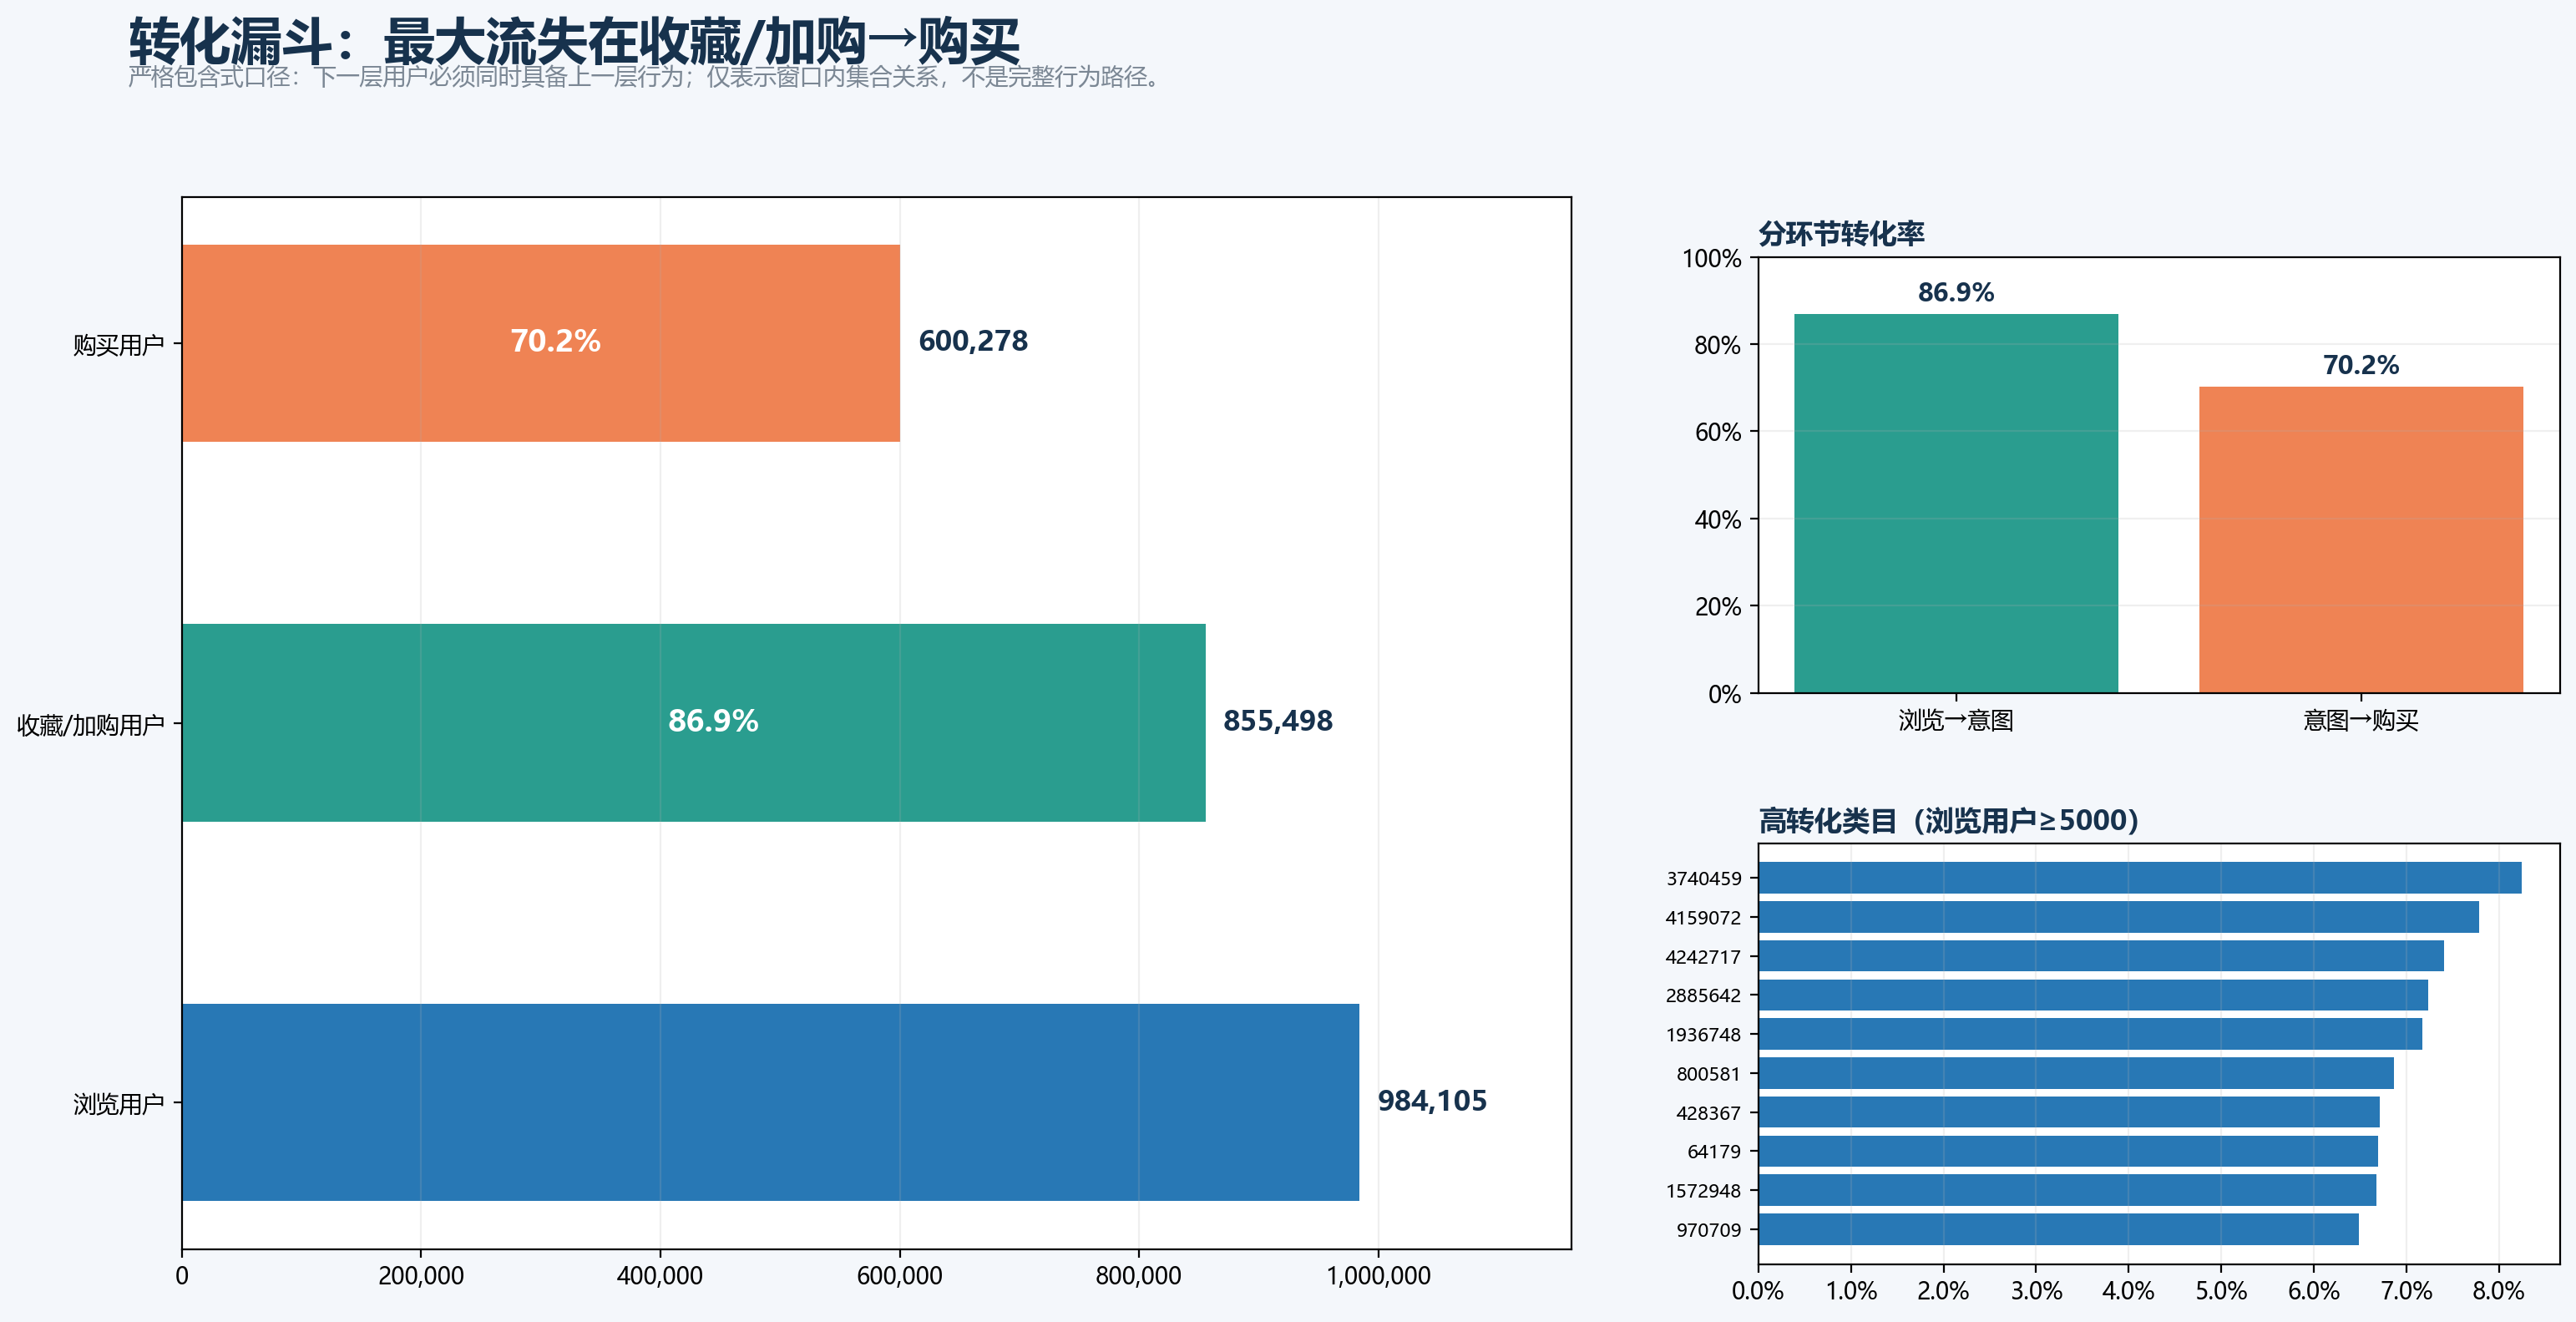

The page's visual inventory and layout, read from the dashboard file:
{"tool":"powerbi","page":{"name":"转化漏斗","canvas":[1280,720],"ordinal":1},"visuals":[{"type":"textbox","box":[30,15,1000,45],"z":1},{"type":"textbox","box":[30,60,1200,30],"z":1},{"type":"barChart","title":"高转化匿名类目ID（浏览用户≥5,000）","fields":{"Category":["TopCategory.category_label"],"Y":["Sum(TopCategory.pv_to_buy)"]},"box":[660,120,560,500],"z":3},{"type":"funnel","fields":{"Category":["FunnelOverall.stage"],"Y":["FunnelOverall.漏斗用户数"]},"box":[60,120,560,500],"z":4}]}

Visuals, with their boxes on the page's 1280x720 design canvas (x1, y1, x2, y2). These are canvas units, not pixel positions in the 2576x1322 screenshot, which may show the page scaled, cropped or inside an application window:
textbox: bbox=[30, 15, 1030, 60]
textbox: bbox=[30, 60, 1230, 90]
"高转化匿名类目ID（浏览用户≥5,000）" barChart: bbox=[660, 120, 1220, 620]
funnel - FunnelOverall.stage x FunnelOverall.漏斗用户数: bbox=[60, 120, 620, 620]
